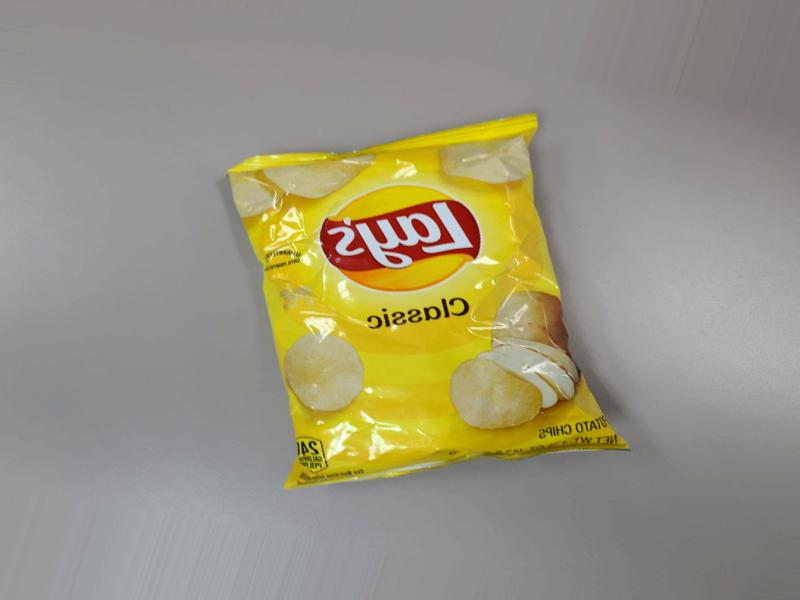lays: (295, 82, 640, 483)
